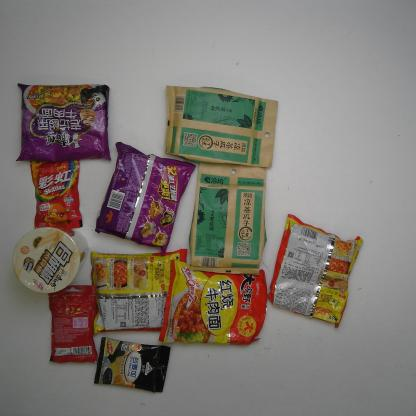Candy: (29, 154, 84, 238), (46, 284, 100, 365)
Dried Food: (164, 84, 280, 169), (187, 160, 267, 275)
Instant Drink: (93, 336, 172, 394)
Instant Noodles: (95, 140, 198, 258), (267, 213, 365, 329), (158, 255, 269, 346), (88, 248, 188, 337), (14, 82, 113, 163), (12, 226, 90, 296)
